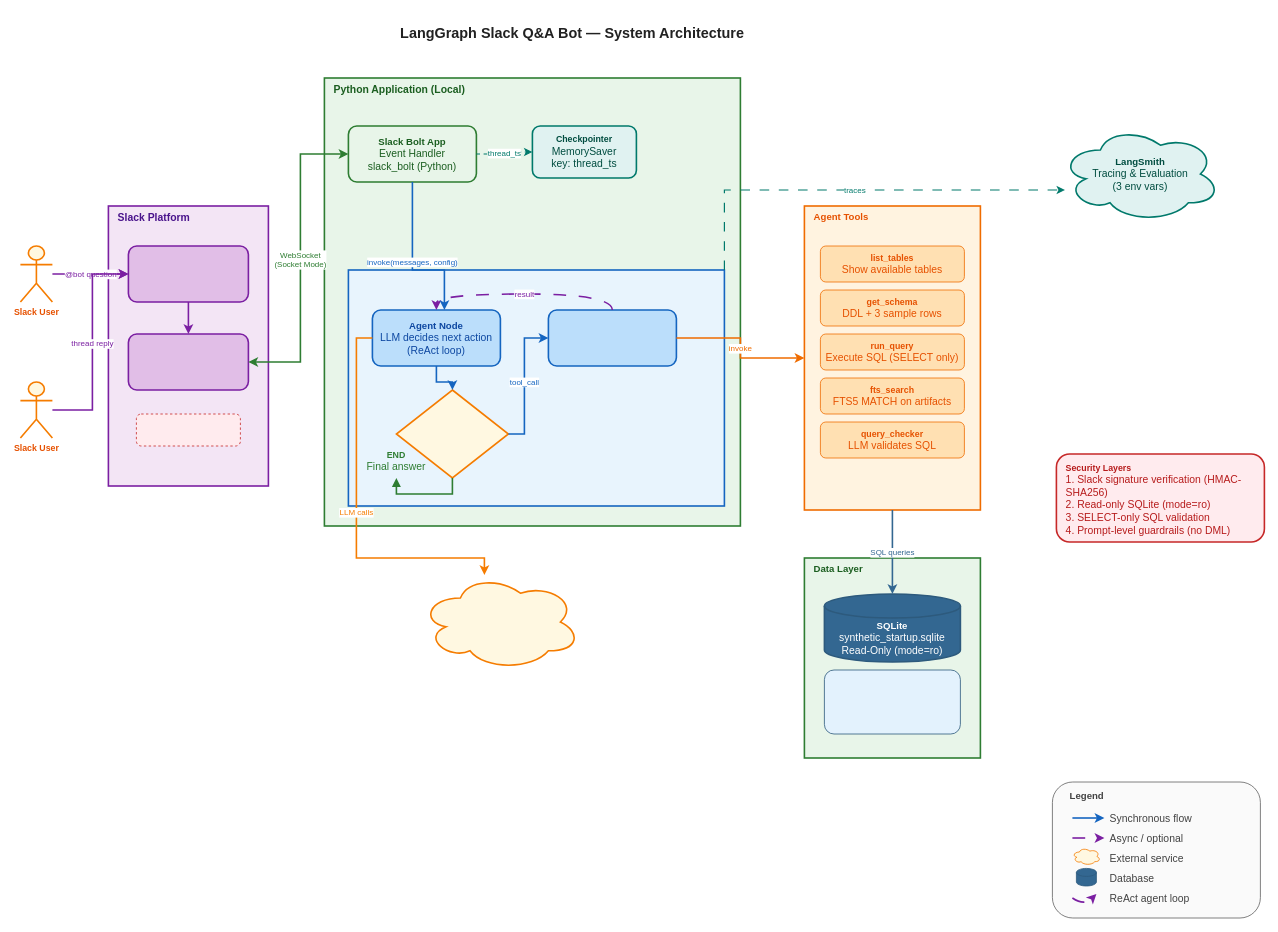
Image size: 1278x932. Some labels were removed from this diagram. Each missing label, with the box of its shape:
#channel @bot mentions Thread replies: (127, 245, 249, 302)
HMAC-SHA256 Signature Verify: (136, 413, 240, 446)
LangGraph Agent: (347, 269, 725, 506)
OpenAI API GPT-4o / GPT-4o-mini Chat Completions: (419, 573, 581, 670)
Slack API Events + Web API Socket Mode (WSS): (127, 333, 249, 390)
Tables: artifacts | scenarios artifacts_fts (FTS5) + other startup tables: (824, 669, 960, 734)
Tool Executor Runs selected tool Returns result to agent: (547, 309, 677, 366)
Tool Router Conditional edge: tool_call or END: (395, 389, 509, 478)
